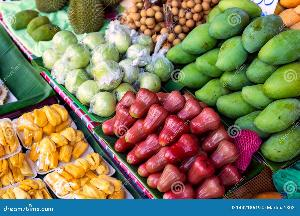apple: (30, 20, 170, 116)
mango: (152, 1, 300, 160)
